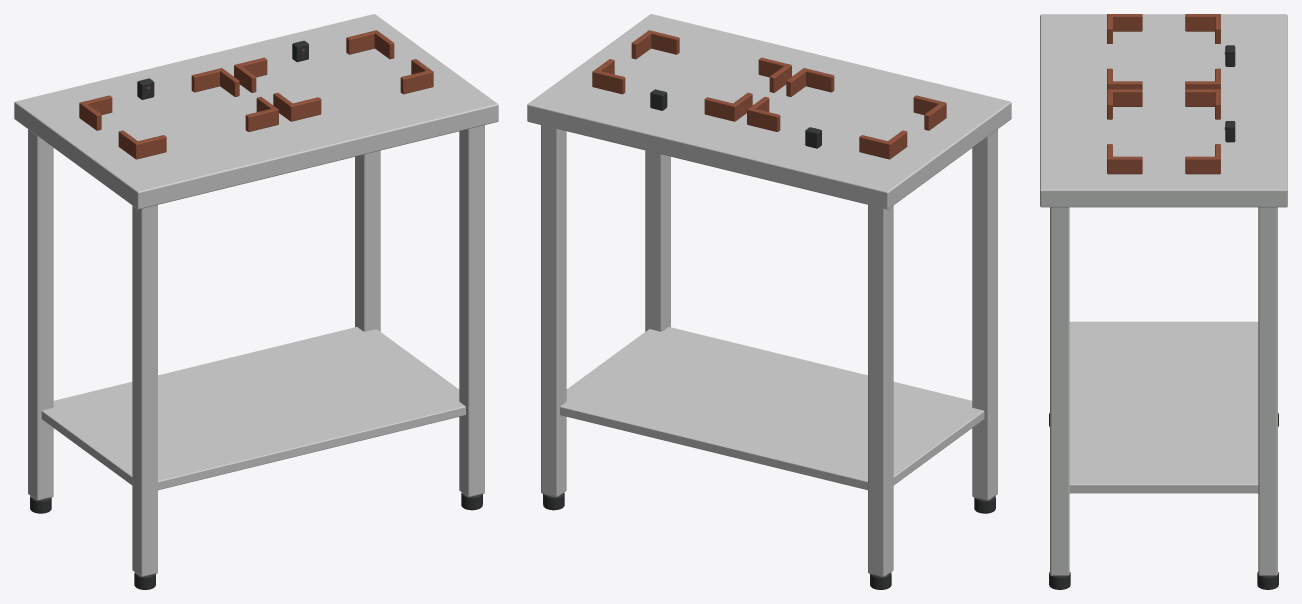
File: tote_buffer_table_body.glb
3 views of the same model, side by side, from view 1: azimuth 30°, elevation 25°; view 2: azimuth 150°, elevation 25°; view 3: azimuth 270°, elevation 25° (orthographic).
Visible parts, largest first — view 1: tote_buffer_table_body_steel, tote_buffer_table_body_accent, tote_buffer_table_body_graphite; view 2: tote_buffer_table_body_steel, tote_buffer_table_body_accent, tote_buffer_table_body_graphite; view 3: tote_buffer_table_body_steel, tote_buffer_table_body_accent, tote_buffer_table_body_graphite.
Part boxes in pixels (x1,y1,x2,y2): tote_buffer_table_body_steel: (14, 14, 498, 576); tote_buffer_table_body_accent: (79, 30, 433, 159); tote_buffer_table_body_graphite: (30, 40, 482, 589); tote_buffer_table_body_steel: (527, 14, 1011, 576); tote_buffer_table_body_accent: (592, 30, 946, 159); tote_buffer_table_body_graphite: (543, 89, 995, 589); tote_buffer_table_body_steel: (1040, 14, 1287, 575); tote_buffer_table_body_accent: (1107, 14, 1225, 174); tote_buffer_table_body_graphite: (1049, 45, 1278, 589).
Bounding box in the file's own units: 0.84 × 0.936 × 0.5.
